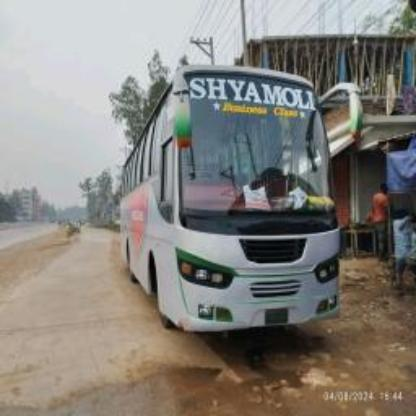bus: (118, 66, 364, 336)
